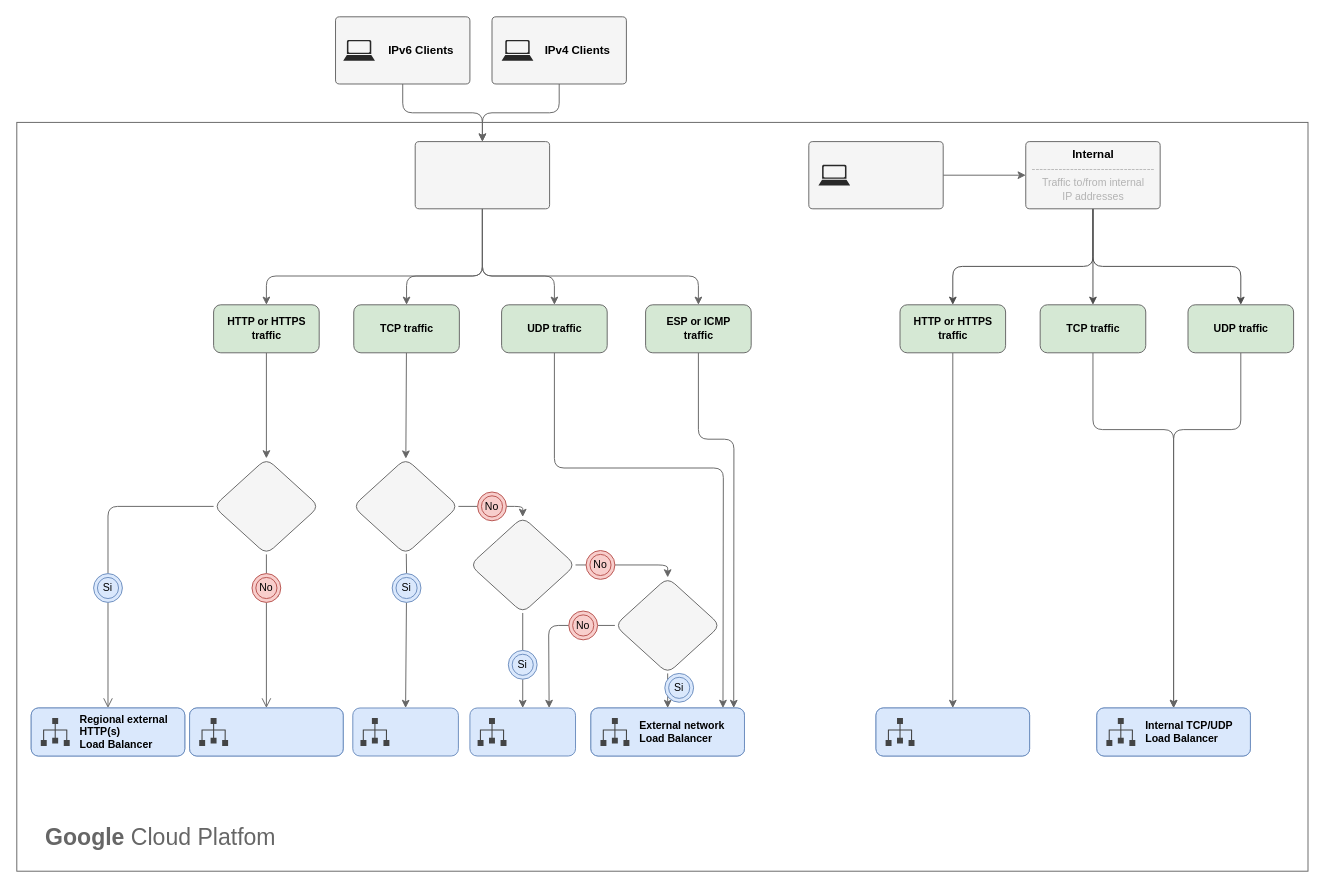
This 1325x888 diagram has some shape labels left out. Each missing label, with the box of its shape:
External -------------------------------- Internet to GCP traffic: (414, 141, 550, 209)
External external HTTP(s) Load Balancer: (189, 707, 343, 756)
Global LB or IPV6?: (469, 516, 576, 613)
Internal HTTP(S) L oad Balancer: (875, 707, 1030, 756)
Internal IPv4 Clients: (808, 141, 943, 209)
Preservar IPs del cliente?: (614, 576, 720, 673)
Regional?: (213, 457, 319, 554)
SSL offload?: (352, 457, 458, 554)
SSL Proxy: (352, 707, 458, 756)
TCP Proxy: (469, 707, 576, 756)
